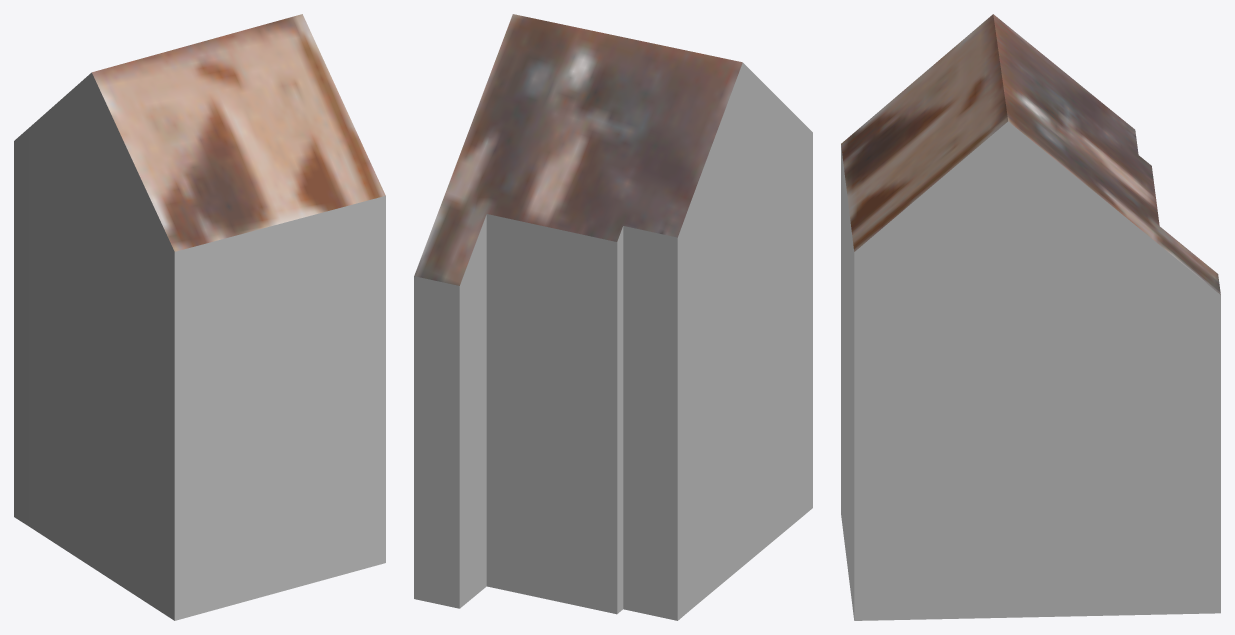
File: DEBW_0010007Tx8T.gltf
The picture shows the model from 3 angles, left to right: view 1: azimuth 30°, elevation 25°; view 2: azimuth 150°, elevation 25°; view 3: azimuth 270°, elevation 25°; orthographic projection.
Parts seen in each view (by area): view 1: Z_UP; view 2: Z_UP; view 3: Z_UP.
Boxes of the visible parts, x1,y1,x2,y2 form: Z_UP: (14, 14, 385, 620); Z_UP: (414, 14, 812, 620); Z_UP: (841, 14, 1220, 620).
Bounding box in the file's own units: 10.57 × 21.57 × 14.95.
Materials: 2 (1 with a texture image).
